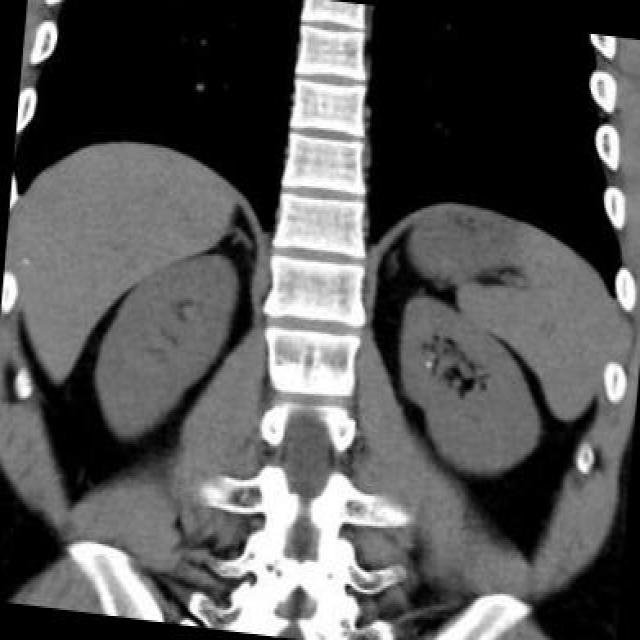Tas_Var: (425, 350, 438, 360), (420, 357, 430, 369)
